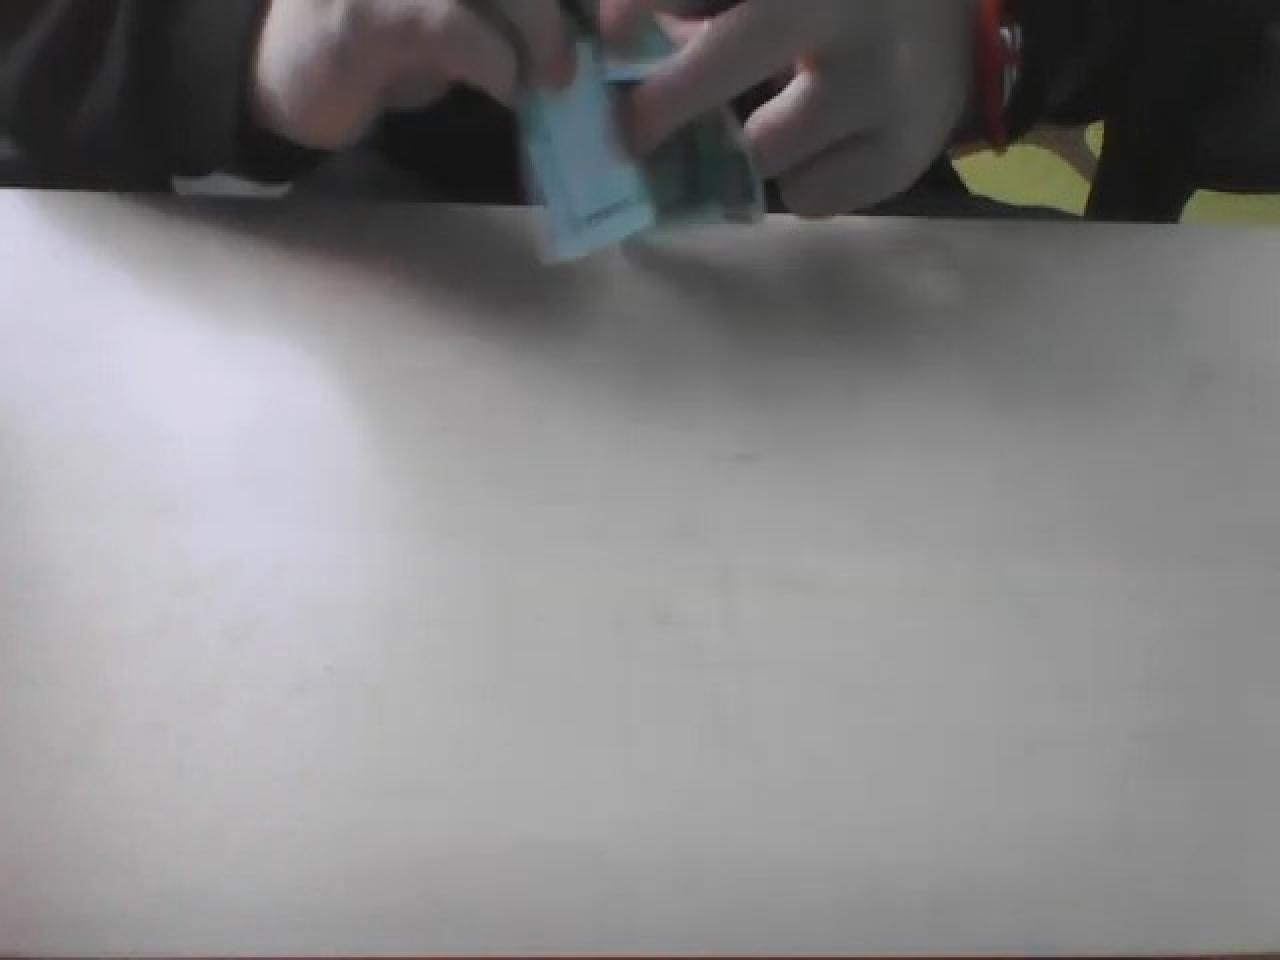100leva: (514, 8, 766, 269)
